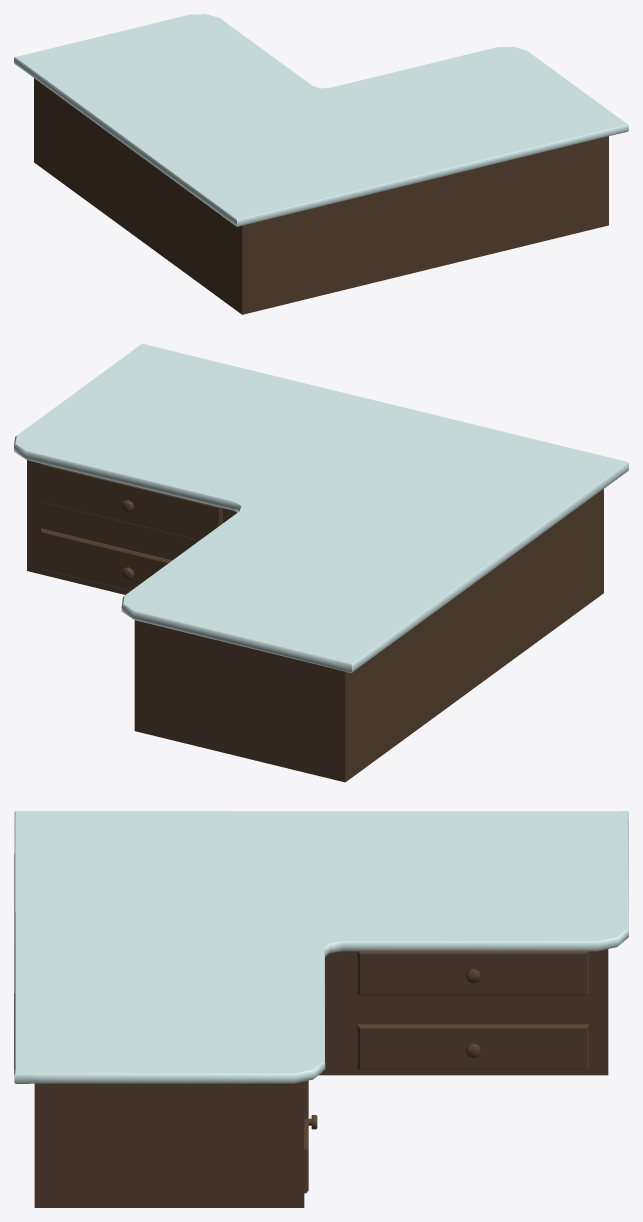
The model's file is Counter corner 1.fbx.
3 renders of one model, top to bottom at view 1: azimuth 30°, elevation 25°; view 2: azimuth 150°, elevation 25°; view 3: azimuth 270°, elevation 25°, orthographic. The views are drawn at different scales.
Parts seen in each view (by area): view 1: Cube.005, Cube.004; view 2: Cube.005, Cube.004, Cube.007, Cube.006; view 3: Cube.005, Cube.004, Cube.003, Cube.002.
Part boxes in pixels (bbox=[...]): Cube.005: bbox=[14, 14, 628, 226]; Cube.004: bbox=[34, 78, 608, 314]; Cube.005: bbox=[14, 343, 628, 673]; Cube.004: bbox=[27, 460, 603, 782]; Cube.007: bbox=[41, 463, 222, 540]; Cube.006: bbox=[41, 528, 171, 591]; Cube.005: bbox=[14, 811, 628, 1083]; Cube.004: bbox=[34, 949, 608, 1207]; Cube.003: bbox=[357, 1024, 589, 1069]; Cube.002: bbox=[357, 951, 589, 995].
Bounding box in the file's own units: 463 × 116 × 456.
